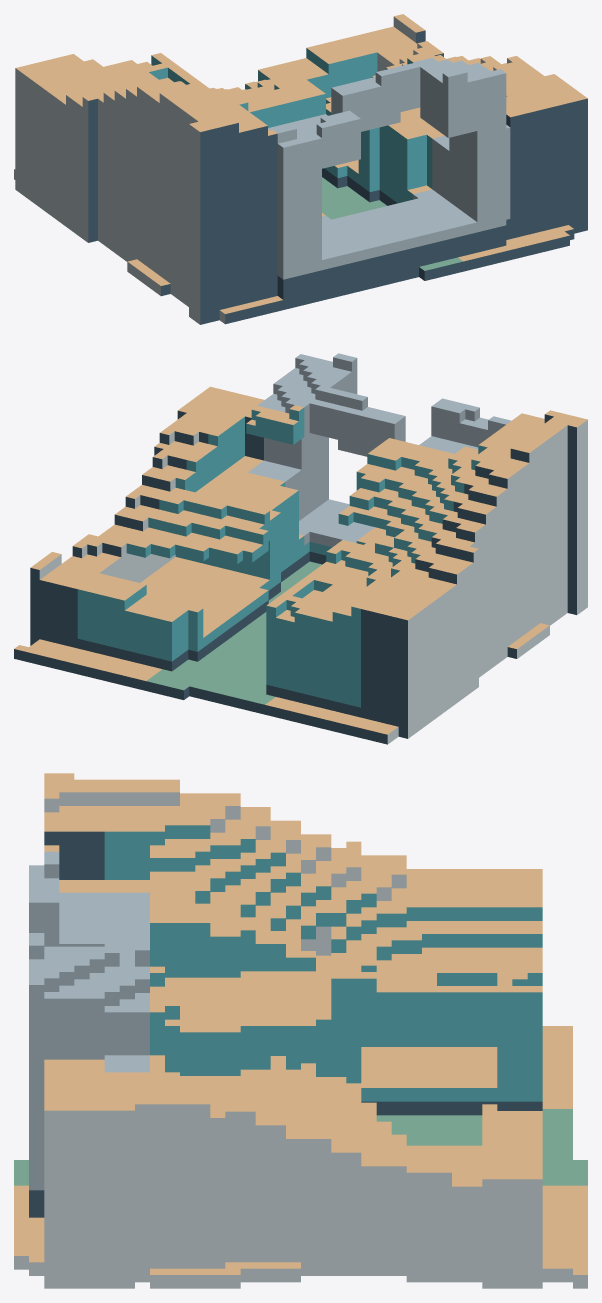
Rendered from a34_city.obj.
The picture shows the model from 3 angles, top to bottom: view 1: azimuth 30°, elevation 25°; view 2: azimuth 150°, elevation 25°; view 3: azimuth 270°, elevation 25°; orthographic projection. The views are drawn at different scales.
Size of the model in its own units: 400 by 190 by 380.
